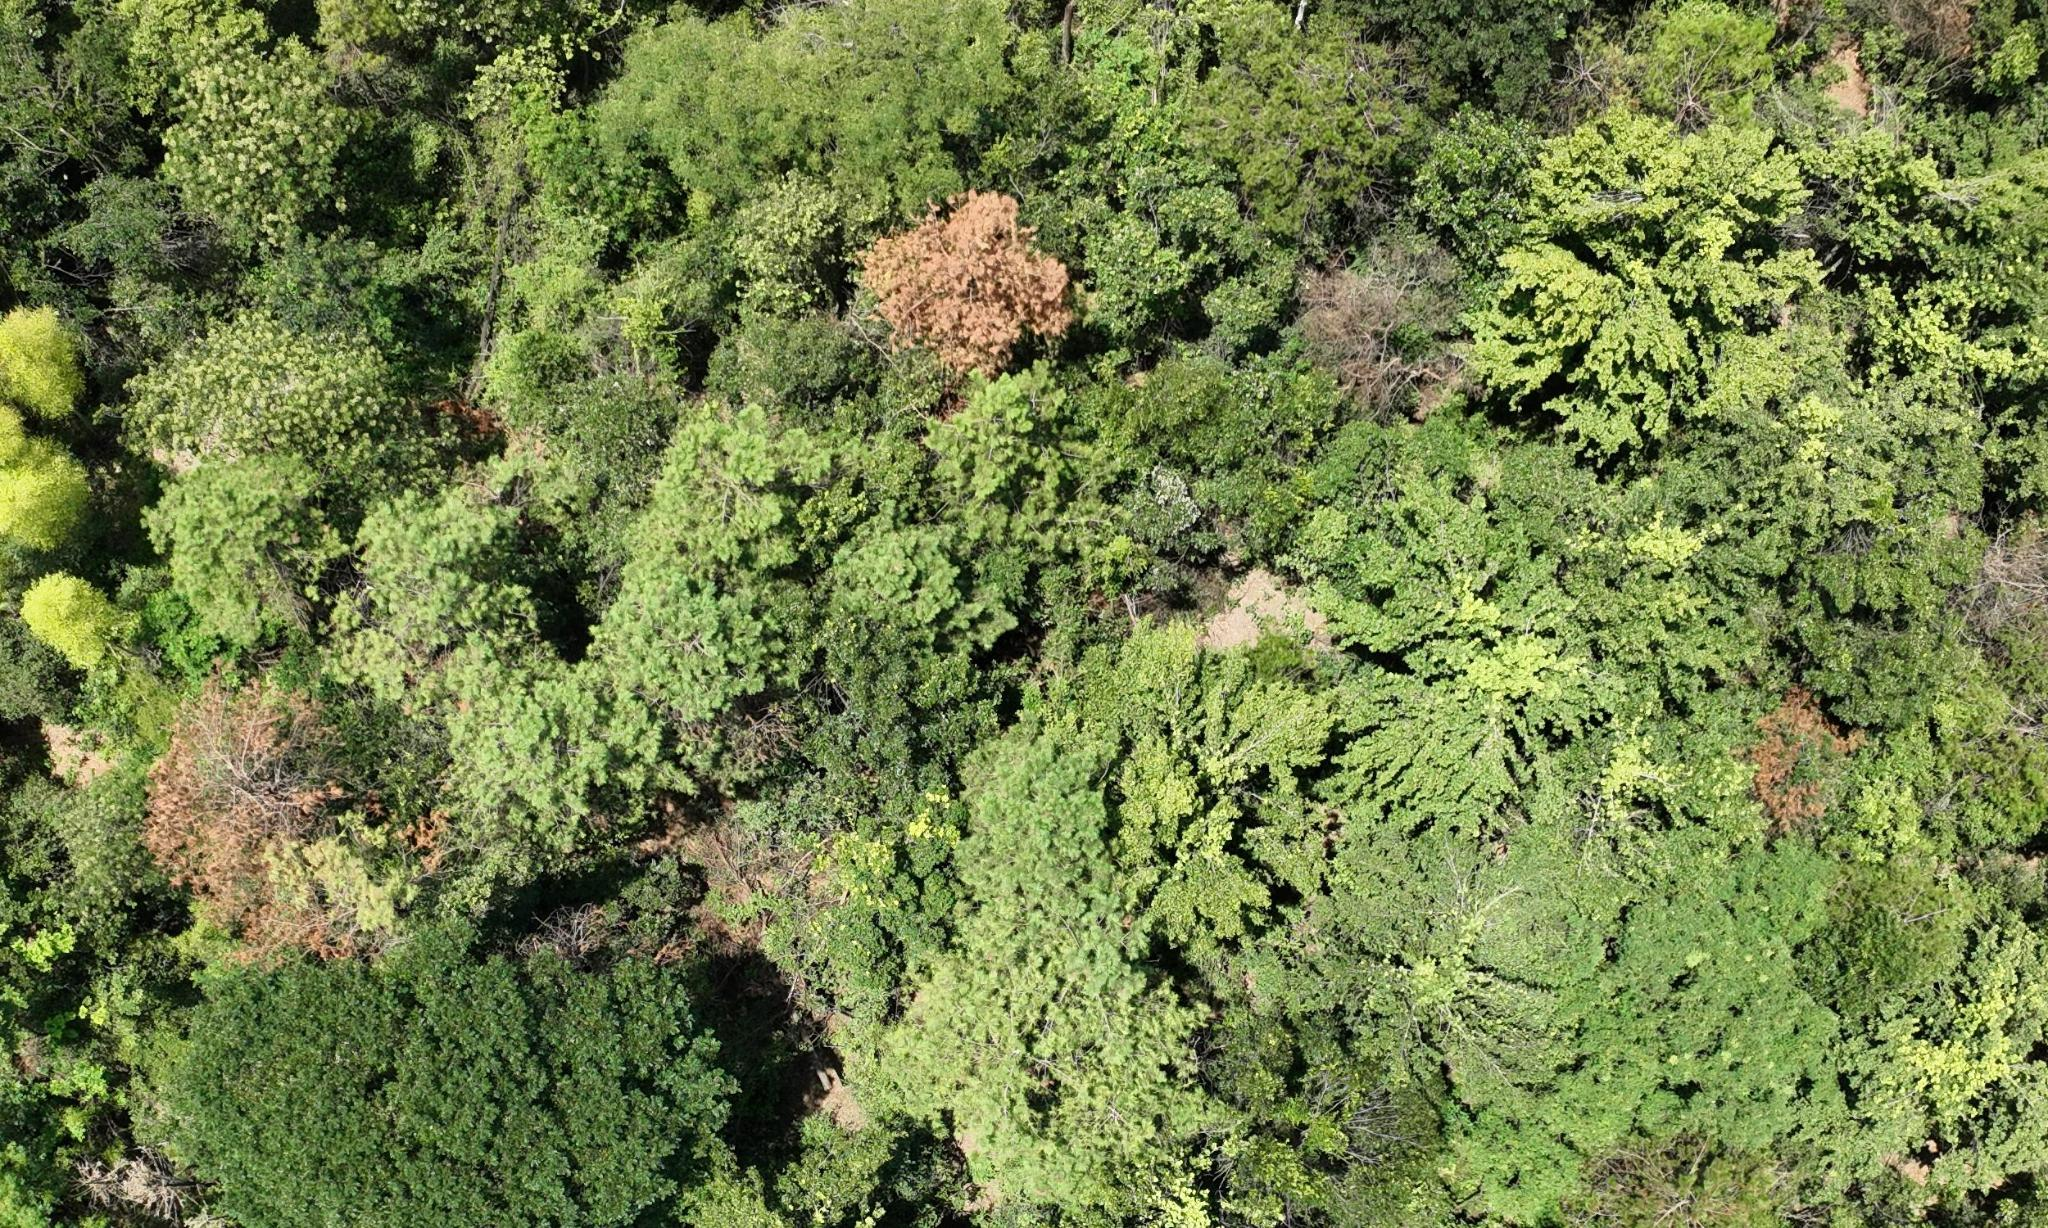dead: (1294, 228, 1456, 418)
heavy: (145, 680, 392, 972), (851, 187, 1073, 380), (1745, 683, 1852, 844)
